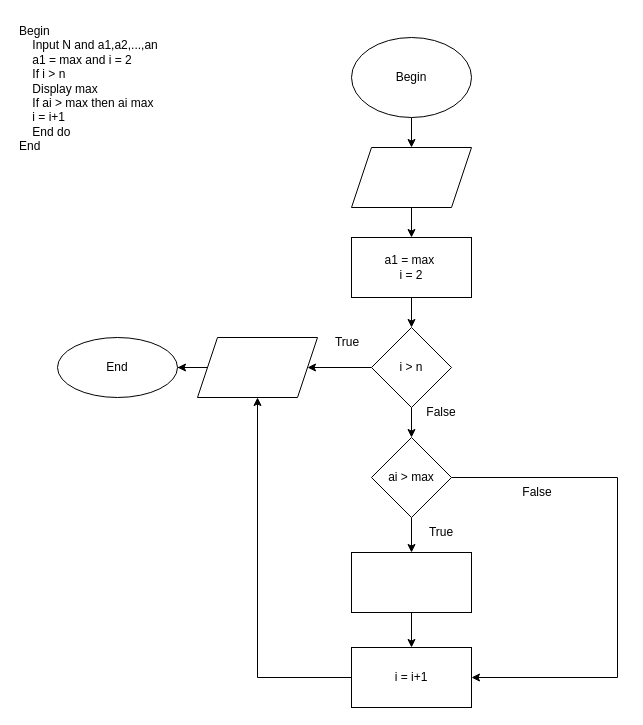
Some shapes in this 643 by 725 pixel diagram are drawn without their labels. Here are the shapes that lost their labels. From the top down, the centre of each, then its label:
At (x=411, y=177): "input N and a1, a2,a3,..,an".
At (x=257, y=367): "Display max".
At (x=411, y=582): "ai max".
